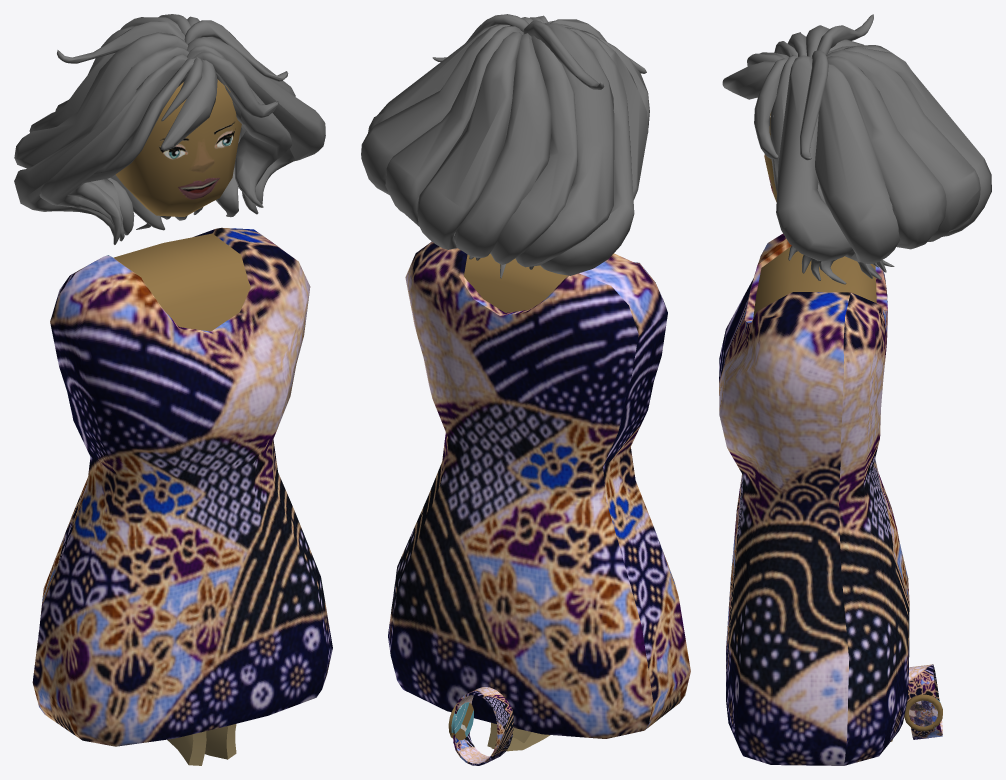
File: Avatar6.fbx
3 renders of one model, left to right at view 1: azimuth 30°, elevation 25°; view 2: azimuth 150°, elevation 25°; view 3: azimuth 270°, elevation 25°, orthographic.
Parts seen in each view (by area): view 1: Body6, Hair6, Head6, HandR, HandL; view 2: Body6, Hair6, Watch; view 3: Body6, Hair6, Watch.
Part boxes in pixels (bbox=[...]): Body6: bbox=[32, 227, 332, 746]; Hair6: bbox=[14, 14, 325, 244]; Head6: bbox=[115, 79, 241, 216]; HandR: bbox=[205, 723, 236, 759]; HandL: bbox=[167, 731, 206, 765]; Body6: bbox=[388, 241, 690, 738]; Hair6: bbox=[361, 14, 649, 278]; Watch: bbox=[448, 687, 513, 765]; Body6: bbox=[719, 233, 909, 765]; Hair6: bbox=[722, 14, 991, 284]; Watch: bbox=[904, 664, 942, 739].
Size of the model in its own units: 0.4529 by 1.14 by 0.3947.
3 materials, 1 textured.
